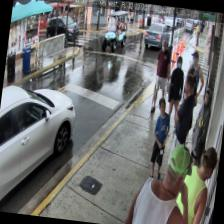person: (122, 137, 199, 224), (162, 72, 198, 192), (171, 142, 218, 224), (176, 49, 207, 144), (186, 88, 212, 178), (147, 97, 173, 183), (175, 66, 200, 142), (163, 55, 186, 136), (150, 39, 174, 114)
